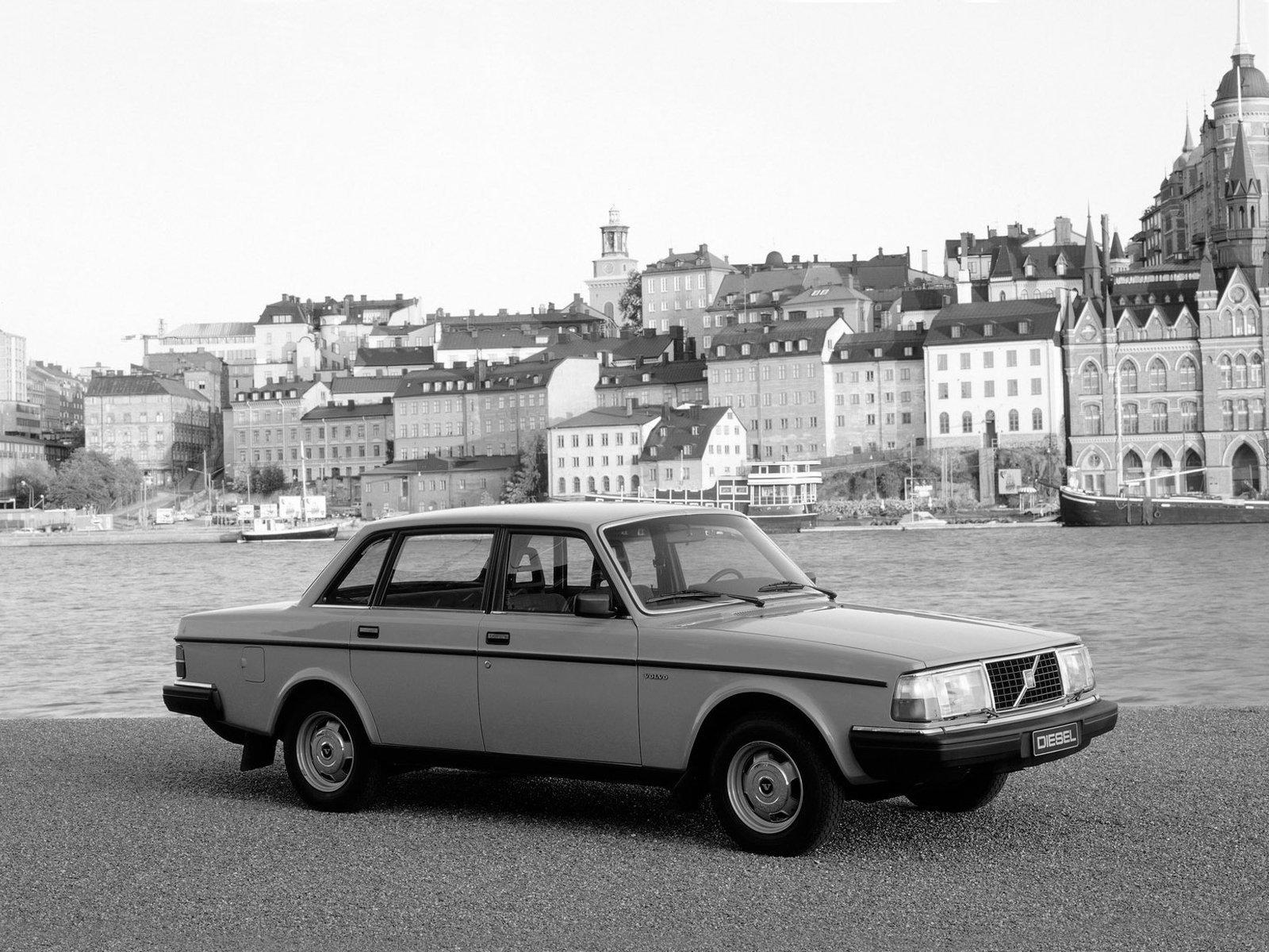car: (160, 496, 1126, 860)
